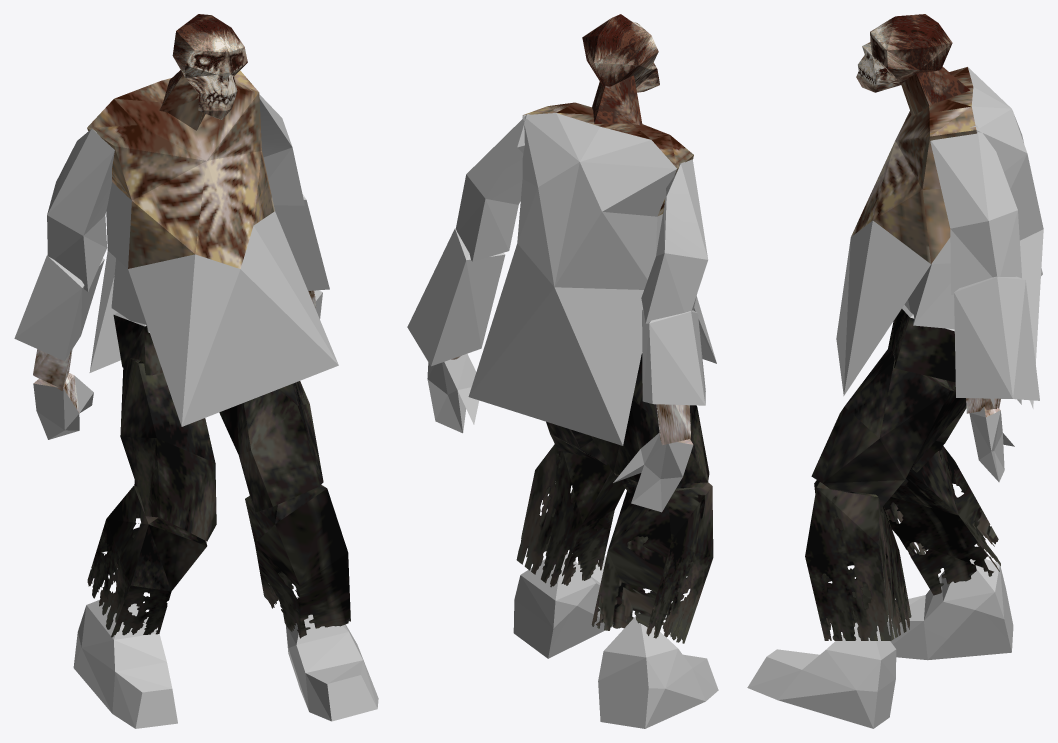
The model's file is zombie.fbx.
The picture shows the model from 3 angles, left to right: view 1: azimuth 30°, elevation 25°; view 2: azimuth 150°, elevation 25°; view 3: azimuth 270°, elevation 25°; orthographic projection. The views are drawn at different scales.
Parts seen in each view (by area): view 1: shot_2024-12-04_16-05-44-881.046; view 2: shot_2024-12-04_16-05-44-881.046; view 3: shot_2024-12-04_16-05-44-881.046.
Boxes of the visible parts, x1,y1,x2,y2 form: shot_2024-12-04_16-05-44-881.046: (14,14,378,728); shot_2024-12-04_16-05-44-881.046: (407,14,718,728); shot_2024-12-04_16-05-44-881.046: (747,14,1043,728).
Bounding box in the file's own units: 1199 × 2574 × 1038.
